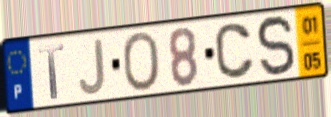8: (167, 25, 201, 88)
C: (213, 21, 257, 82)
J: (77, 36, 107, 97)
O: (120, 30, 162, 94)
S: (254, 13, 297, 80)
T: (36, 41, 67, 101)
